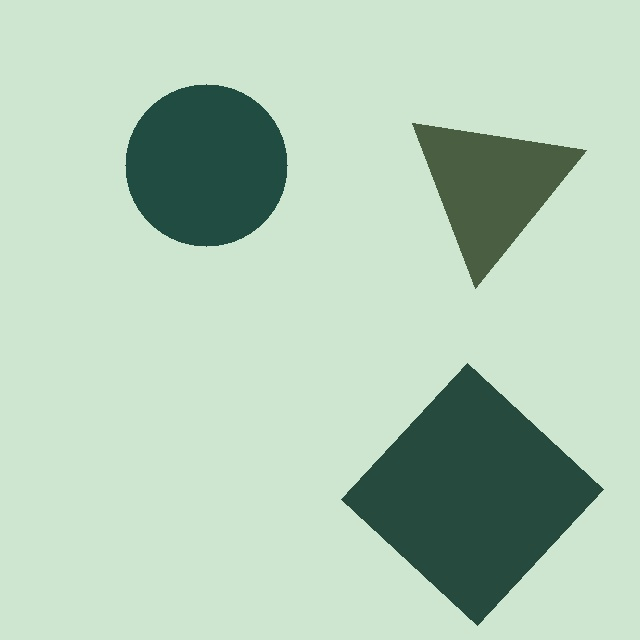circle: (124, 83, 288, 246)
square: (340, 362, 604, 626)
triangle: (411, 123, 586, 289)
